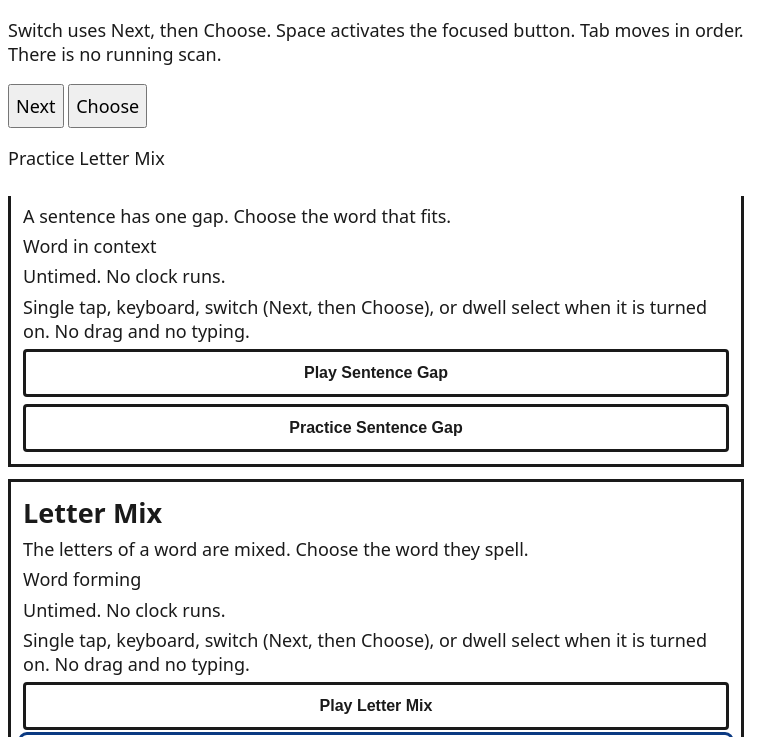
Tally Row on the screen › plays a full round with the switch: Next, then Choose
Earlier steps of the test are not shown.
Later steps or results of the test are not shown.
(page scrolled)
Step 1. Click the button "Next" → (36, 106), box [8,84,64,128]
(page scrolled)
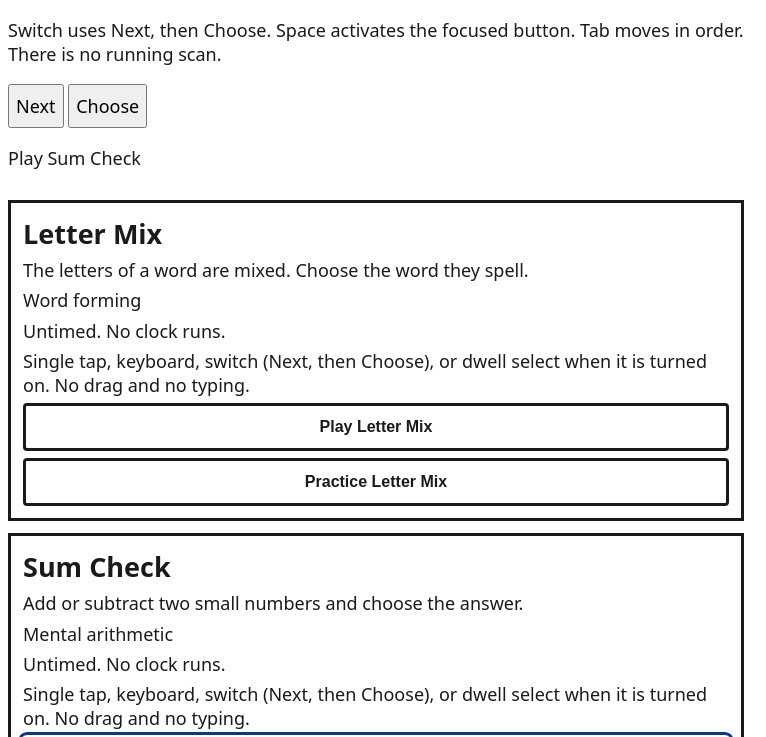
Step 2. Click the button "Next" → (36, 106), box [8,84,64,128]
(page scrolled)
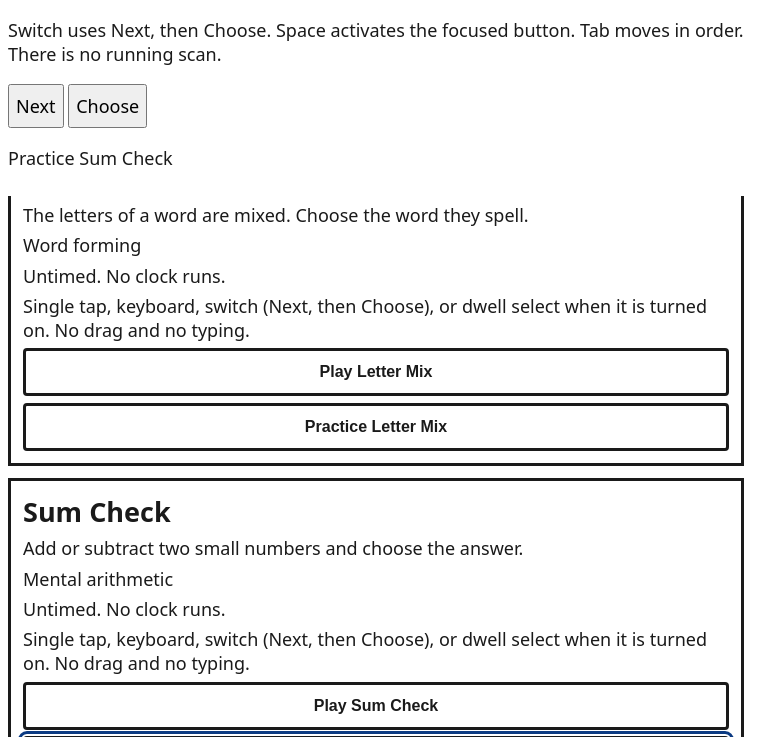
Step 3. Click the button "Next" → (36, 106), box [8,84,64,128]
(page scrolled)
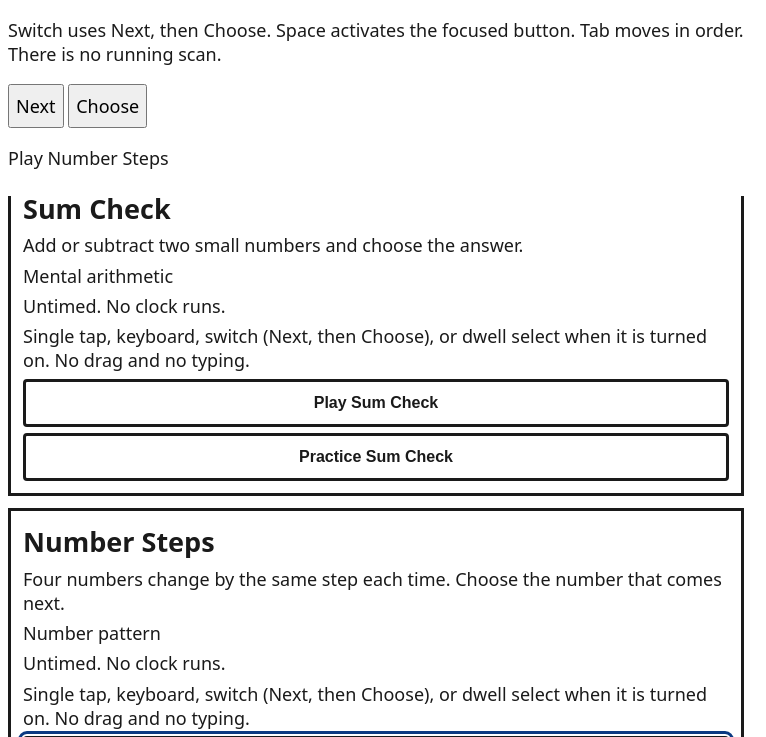
Step 4. Click the button "Next" → (36, 106), box [8,84,64,128]
(page scrolled)
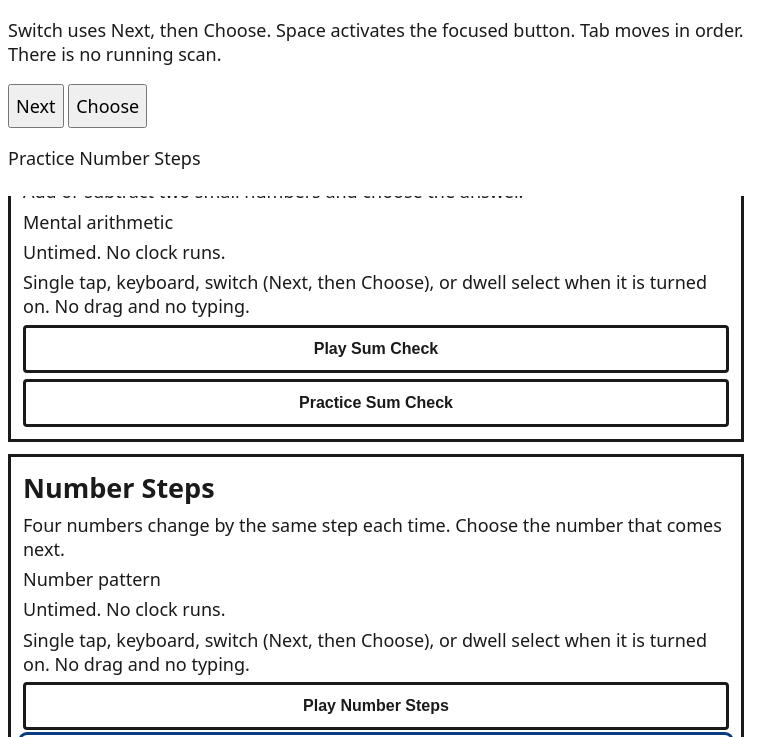
Step 5. Click the button "Next" → (36, 106), box [8,84,64,128]
(page scrolled)
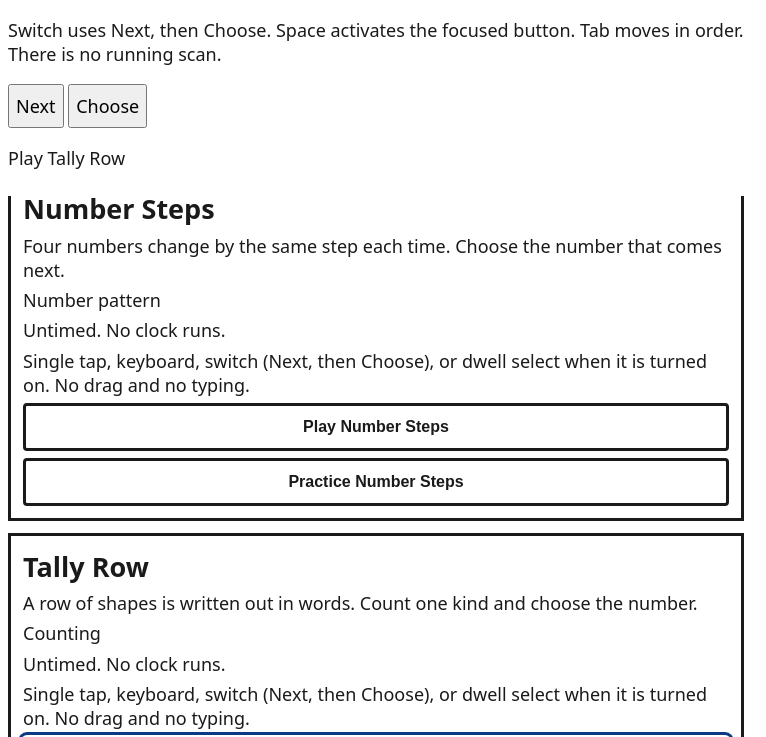
Step 6. Click the button "Choose" → (108, 106), box [68,84,147,128]
(page scrolled)
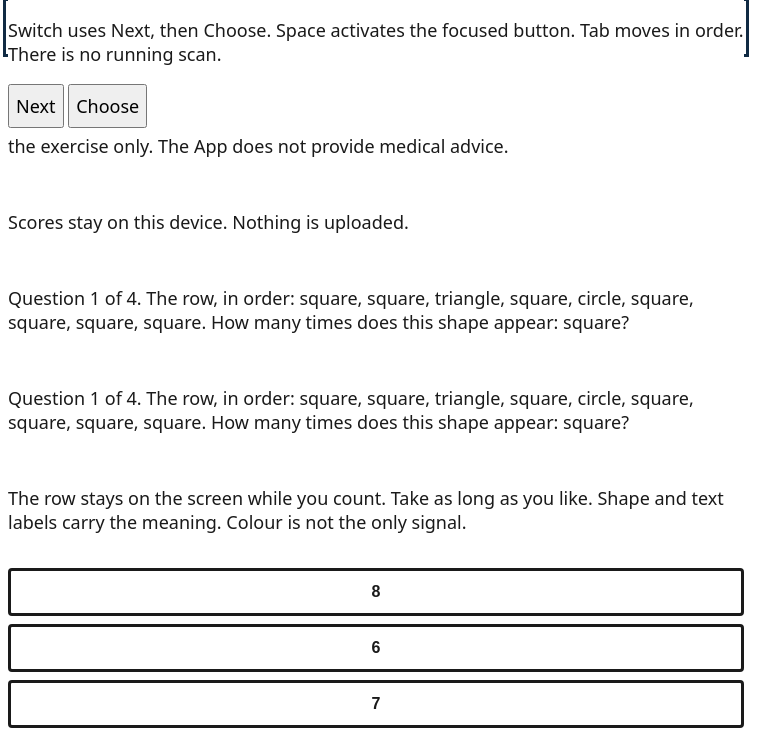
Expected: the heading "Tally Row" is shown, [8,3,176,52]
Result: the buttons read "8", "6", "7", in this order at [8,568,744,616]; [8,624,744,672]; [8,680,744,728]
